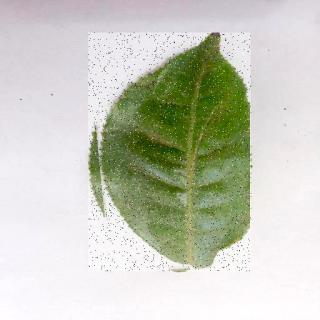Algal Leaf: (90, 34, 253, 273)
